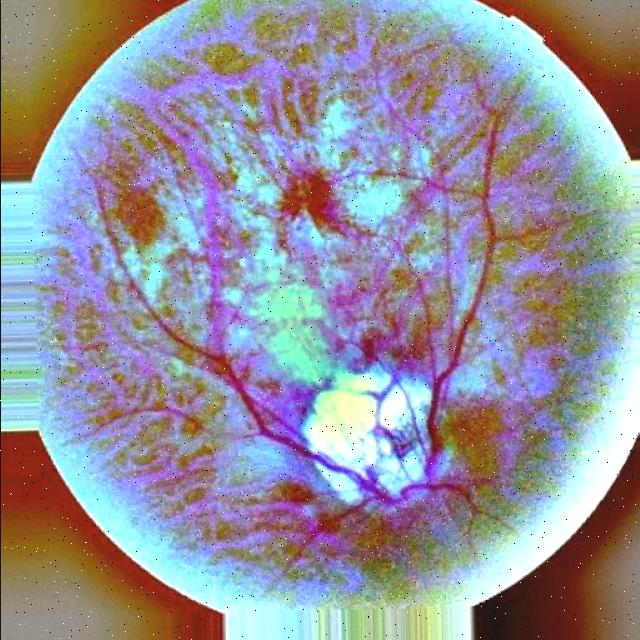Optic Disk: (301, 366, 429, 496)
